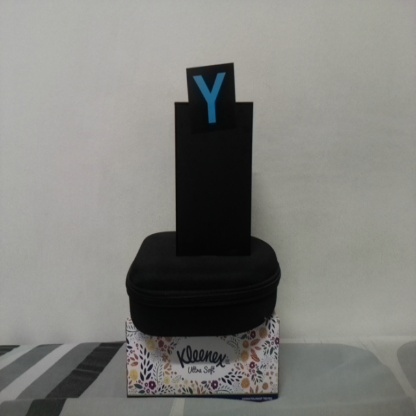id_14: (186, 67, 235, 130)
